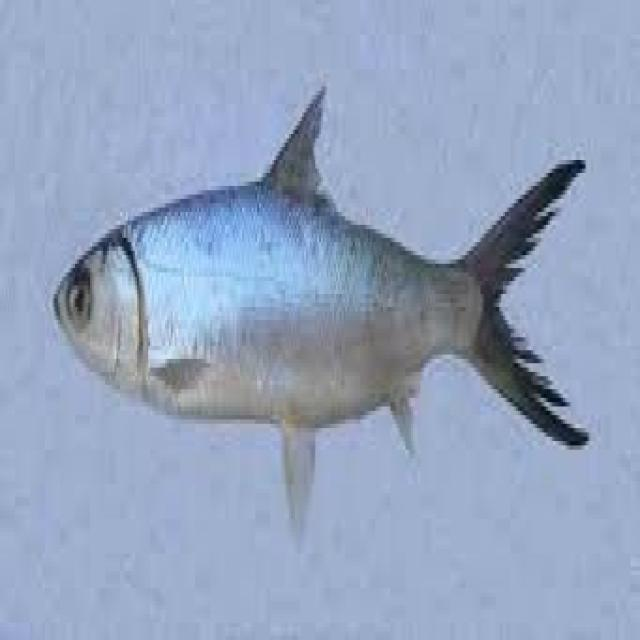Bangus: (15, 49, 640, 524)
